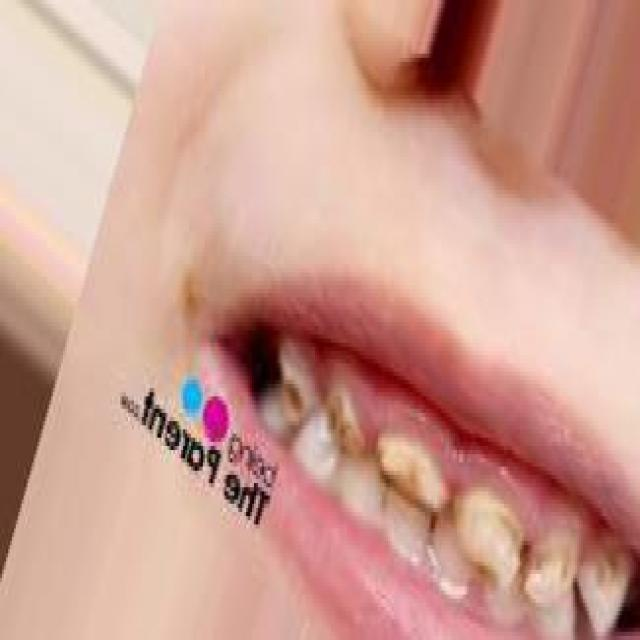caries: (455, 480, 520, 592), (377, 426, 445, 524), (523, 512, 576, 614), (324, 374, 364, 467), (276, 346, 315, 438)
